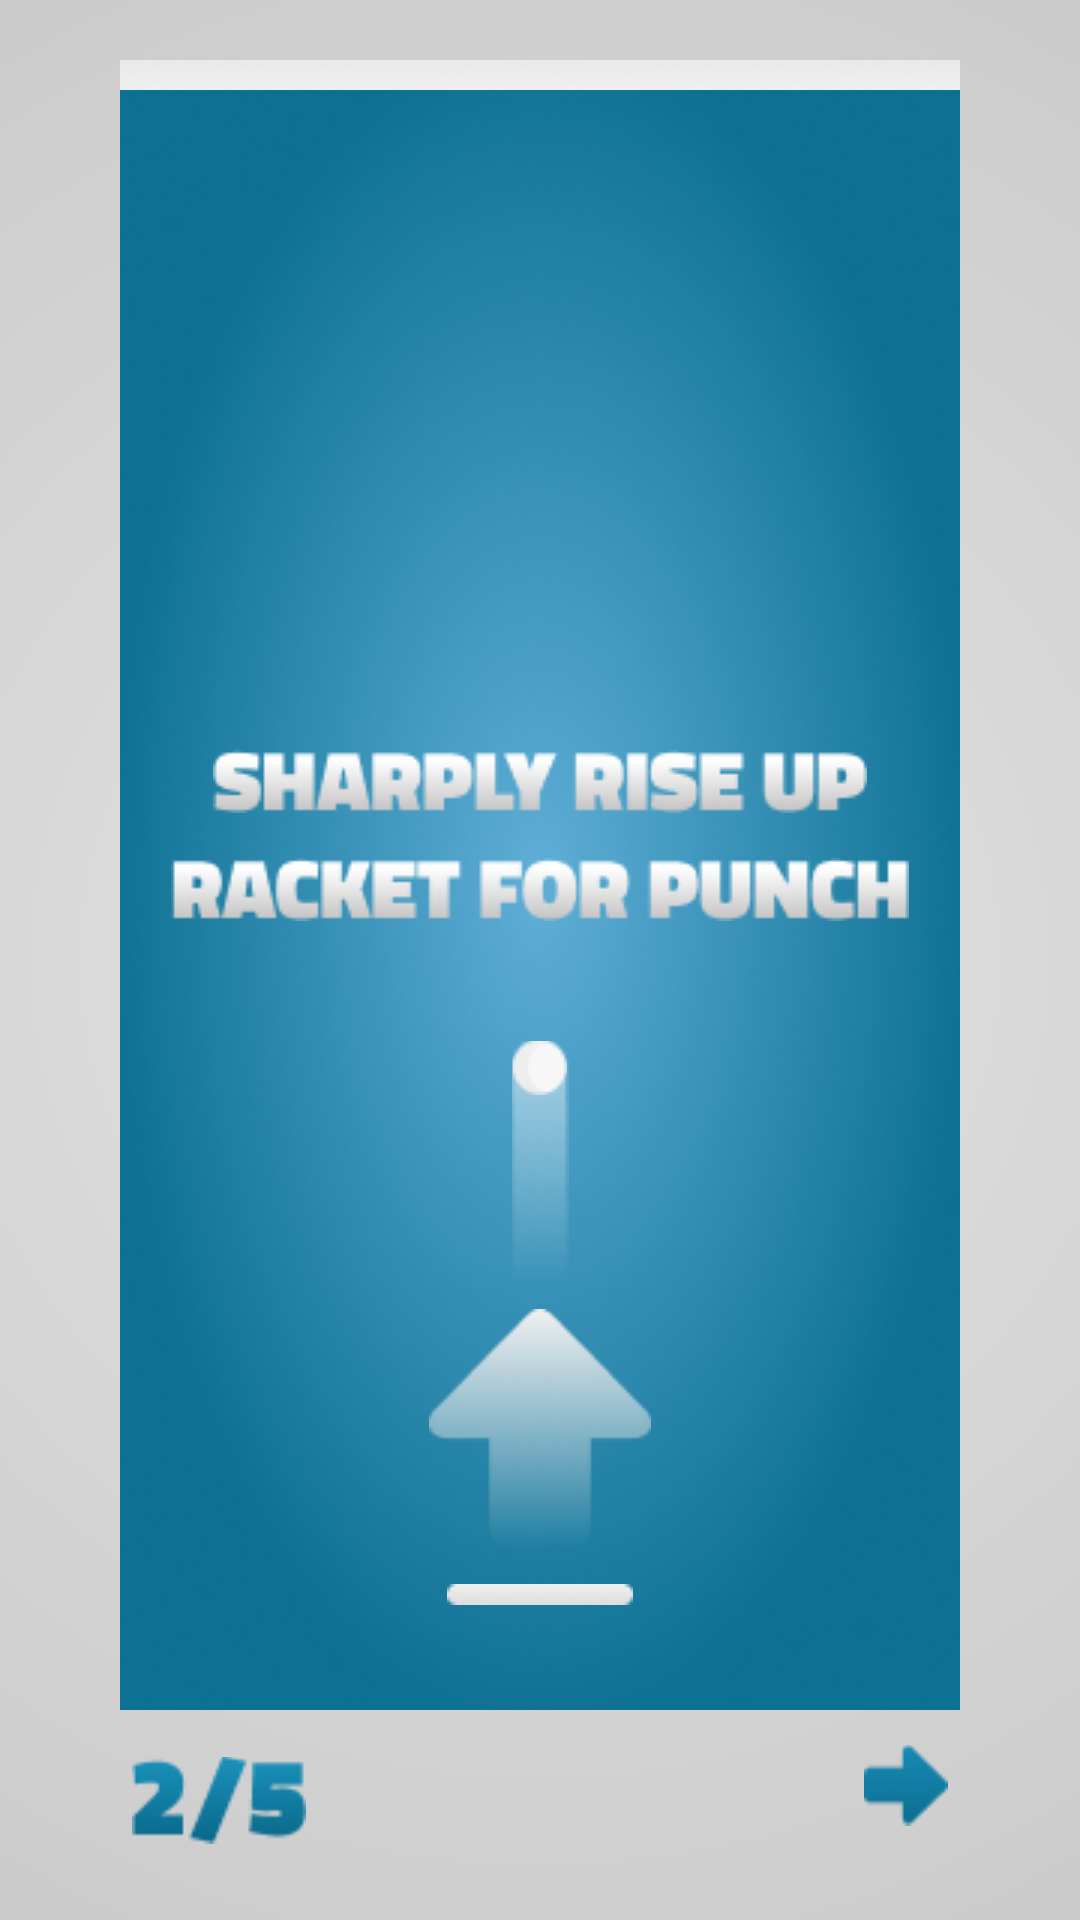

Icons on this 1080px x 1920px Android screen, each with its box as (x1, y1, x2, y2):
right arrow: (864, 1745, 948, 1826)
